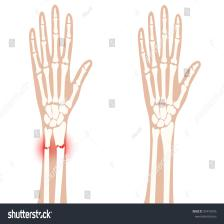closed-simple-fracture: (25, 2, 94, 203)
